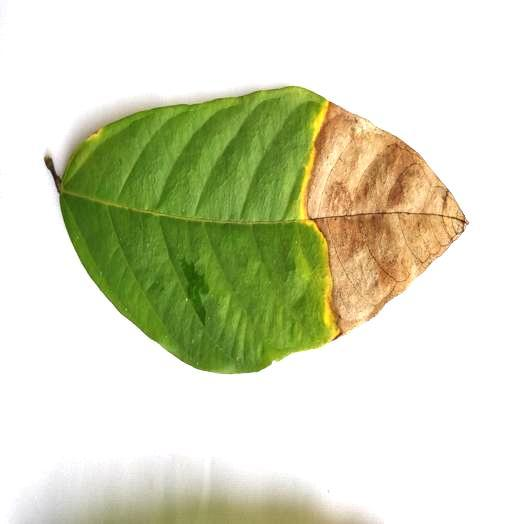Potassium: (48, 87, 465, 370)
